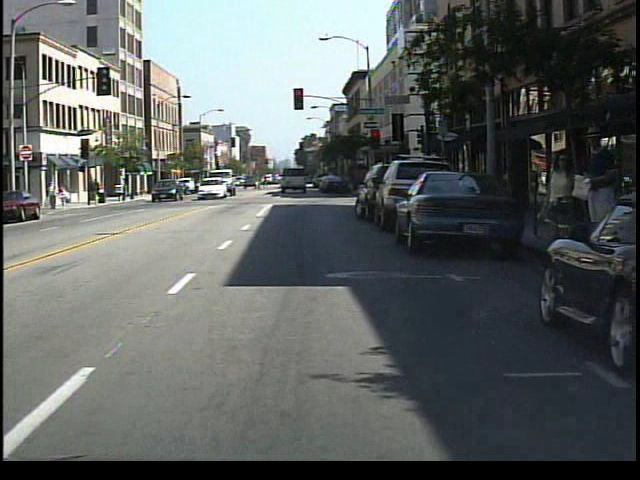person: (576, 121, 614, 280), (538, 144, 579, 284), (46, 180, 61, 213), (57, 184, 72, 211)
